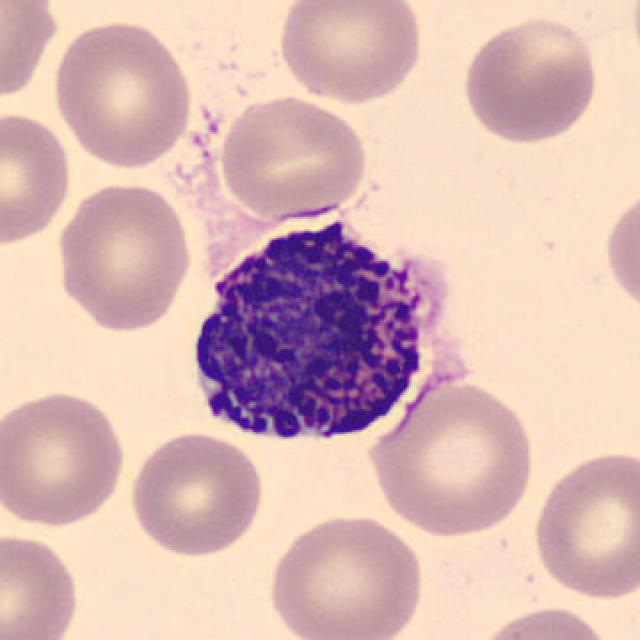Basophil: (172, 205, 483, 453)
RBC: (364, 378, 540, 540), (48, 14, 196, 171), (51, 178, 196, 335), (265, 508, 428, 640), (215, 92, 372, 222), (459, 12, 601, 146), (124, 428, 268, 560), (0, 386, 130, 531), (528, 446, 638, 603), (274, 0, 426, 106), (0, 108, 75, 248), (0, 529, 84, 640), (0, 0, 60, 106), (473, 603, 619, 640), (601, 183, 640, 321)
